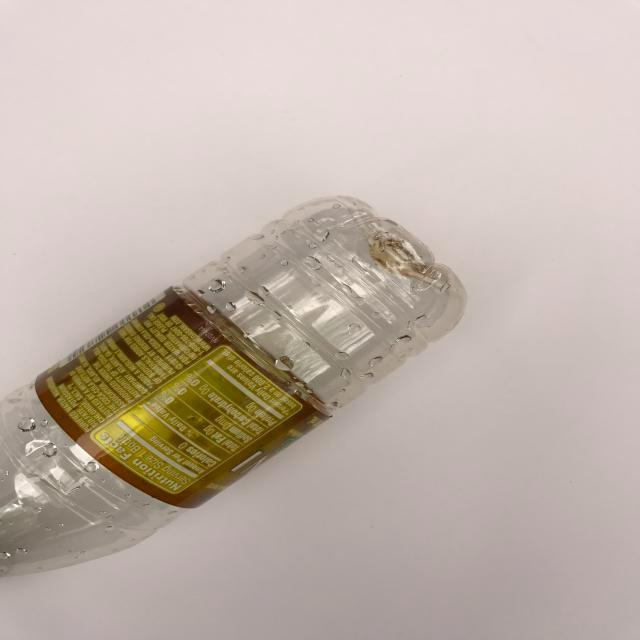plastic: (0, 187, 488, 580)
